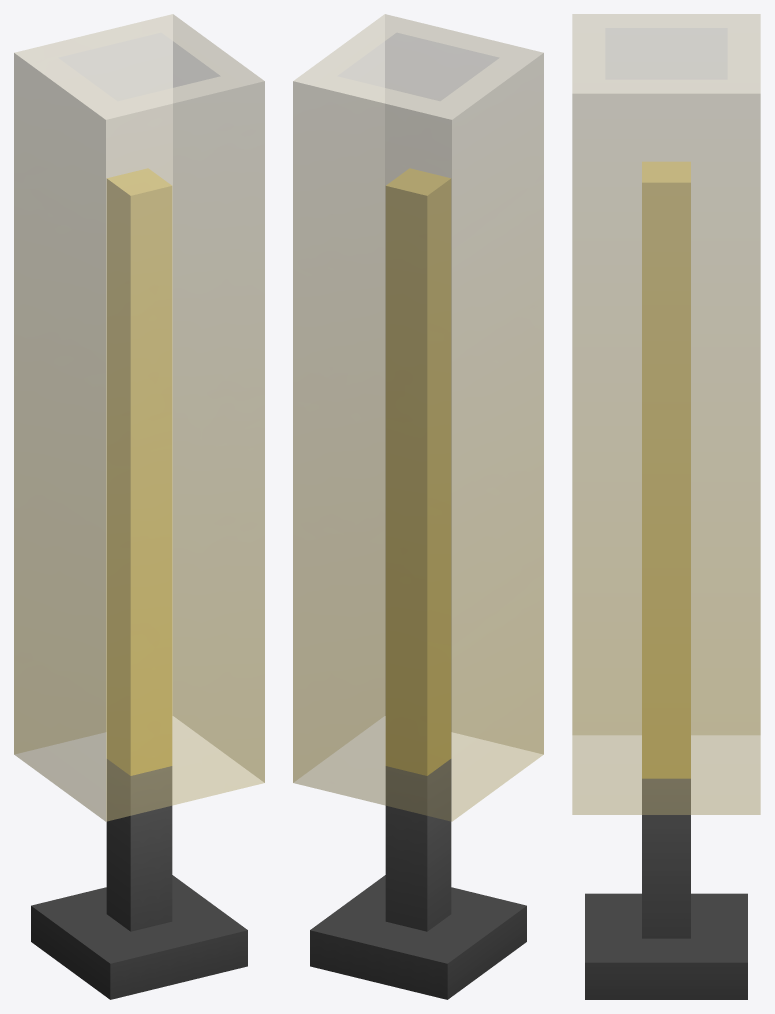
File: StandingLamp_Lit_default.fbx
3 renders of one model, left to right at view 1: azimuth 30°, elevation 25°; view 2: azimuth 150°, elevation 25°; view 3: azimuth 270°, elevation 25°, orthographic. The views are drawn at different scales.
Visible parts, largest first — view 1: StandingLamp_Lit.default; view 2: StandingLamp_Lit.default; view 3: StandingLamp_Lit.default.
Boxes of the visible parts, x1=… form: StandingLamp_Lit.default: x1=14, y1=14, x2=264, y2=999; StandingLamp_Lit.default: x1=293, y1=14, x2=543, y2=999; StandingLamp_Lit.default: x1=572, y1=14, x2=760, y2=999.
Bounding box in the file's own units: 37.5 × 200 × 37.5.
